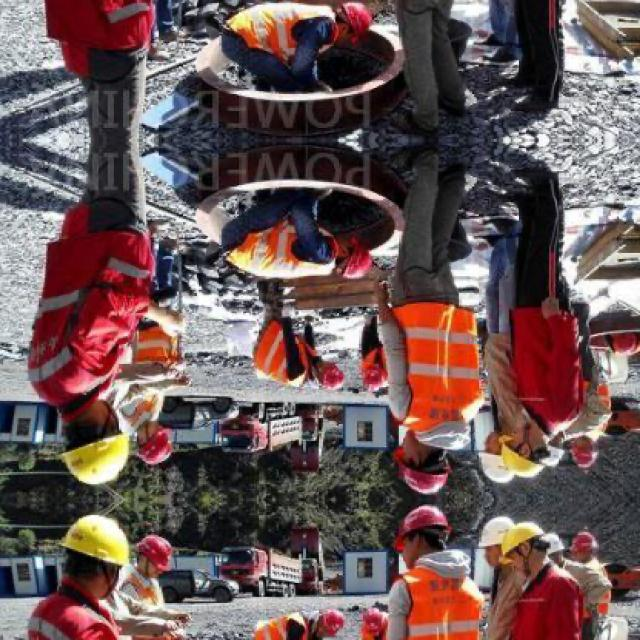con casco: (34, 414, 141, 494), (502, 412, 564, 480), (126, 420, 195, 468), (416, 442, 476, 497), (344, 228, 399, 283)
